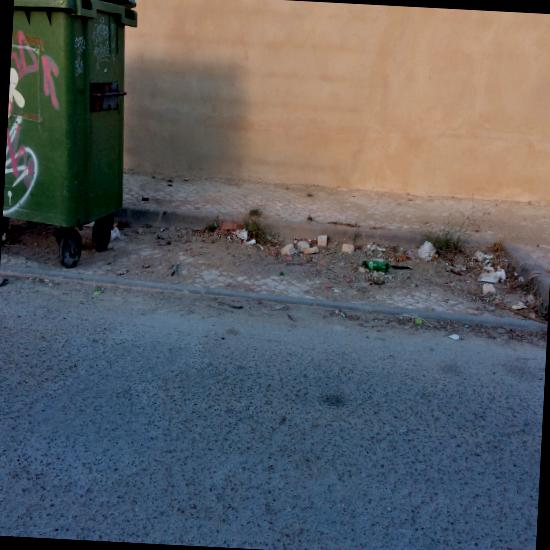Broken glass: (279, 271, 284, 275)
Cigarette: (110, 226, 120, 243), (415, 318, 422, 323), (335, 310, 341, 315), (447, 282, 454, 286), (44, 278, 50, 282)
Clear plastic bottle: (362, 260, 389, 272)
Normal paper: (236, 228, 248, 240), (406, 250, 411, 259)
Other plastic bottle: (1, 232, 6, 241), (94, 291, 101, 295), (342, 273, 346, 277)
Other plastic cup: (477, 273, 499, 284)
Unlabeled litter: (472, 251, 494, 261), (513, 302, 527, 309), (244, 238, 256, 245), (448, 334, 459, 341), (377, 246, 386, 251), (519, 277, 526, 282), (258, 246, 265, 251), (516, 332, 522, 337)
